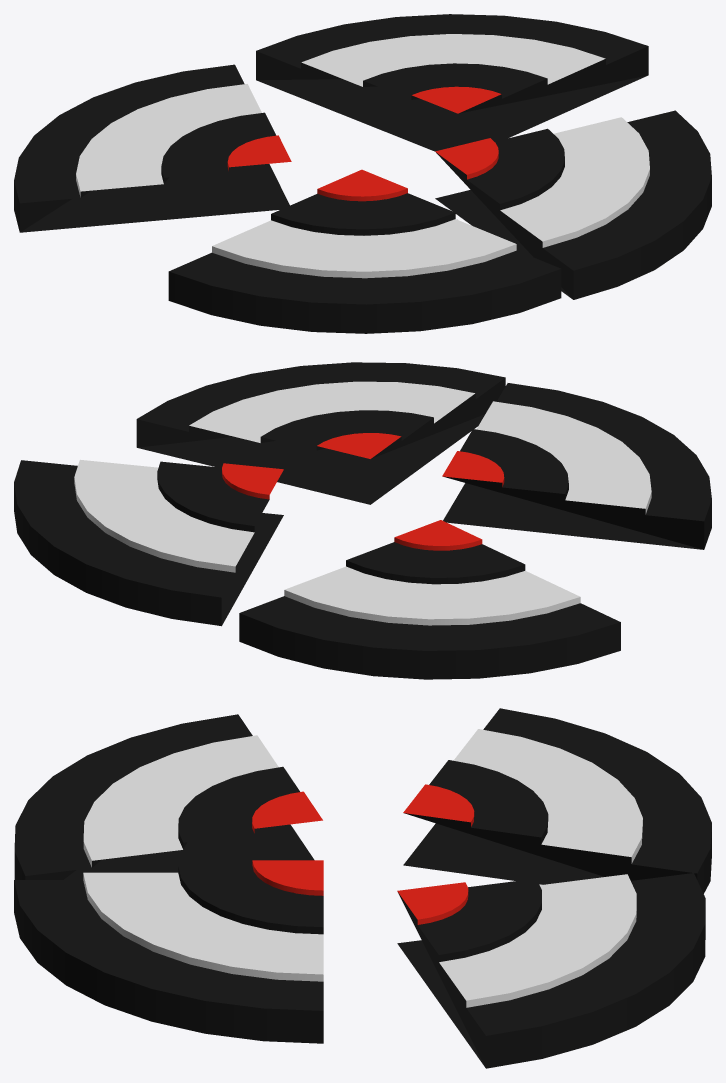
Rendered from fragments.fbx.
The picture shows the model from 3 angles, top to bottom: view 1: azimuth 30°, elevation 25°; view 2: azimuth 150°, elevation 25°; view 3: azimuth 270°, elevation 25°; orthographic projection. The views are drawn at different scales.
Parts seen in each view (by area): view 1: Broken parts.003, Broken parts, Broken parts.002, Broken parts.004; view 2: Broken parts.004, Broken parts.002, Broken parts, Broken parts.003; view 3: Broken parts.002, Broken parts, Broken parts.004, Broken parts.003.
Boxes of the visible parts, x1,y1,x2,y2 form: Broken parts.003: [168, 169, 561, 333]; Broken parts: [256, 14, 648, 151]; Broken parts.002: [435, 110, 711, 299]; Broken parts.004: [14, 64, 291, 232]; Broken parts.004: [239, 520, 620, 679]; Broken parts.002: [136, 362, 505, 504]; Broken parts: [14, 459, 283, 626]; Broken parts.003: [442, 383, 711, 549]; Broken parts.002: [14, 860, 323, 1043]; Broken parts: [397, 873, 705, 1068]; Broken parts.004: [403, 708, 711, 893]; Broken parts.003: [14, 714, 322, 879].
Bounding box in the file's own units: 259 × 22.67 × 225.
